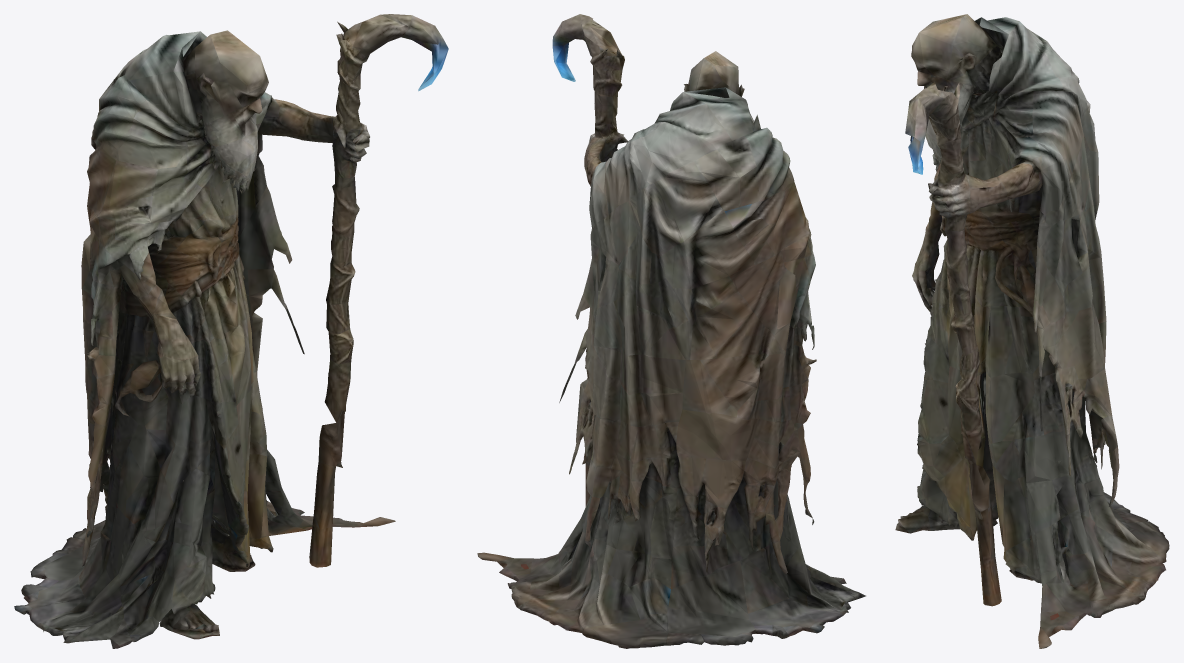
File: boss1.glb
3 renders of one model, left to right at view 1: azimuth 30°, elevation 25°; view 2: azimuth 150°, elevation 25°; view 3: azimuth 270°, elevation 25°, orthographic. The views are drawn at different scales.
Visible parts, largest first — view 1: Object_4; view 2: Object_4; view 3: Object_4.
Part boxes in pixels (box(x1,y1,x2,y2)): Object_4: box(14, 14, 448, 648); Object_4: box(477, 14, 865, 648); Object_4: box(895, 14, 1169, 648).
Bounding box in the file's own units: 1.32 × 1.89 × 0.8759.
1 material, 1 textured.
